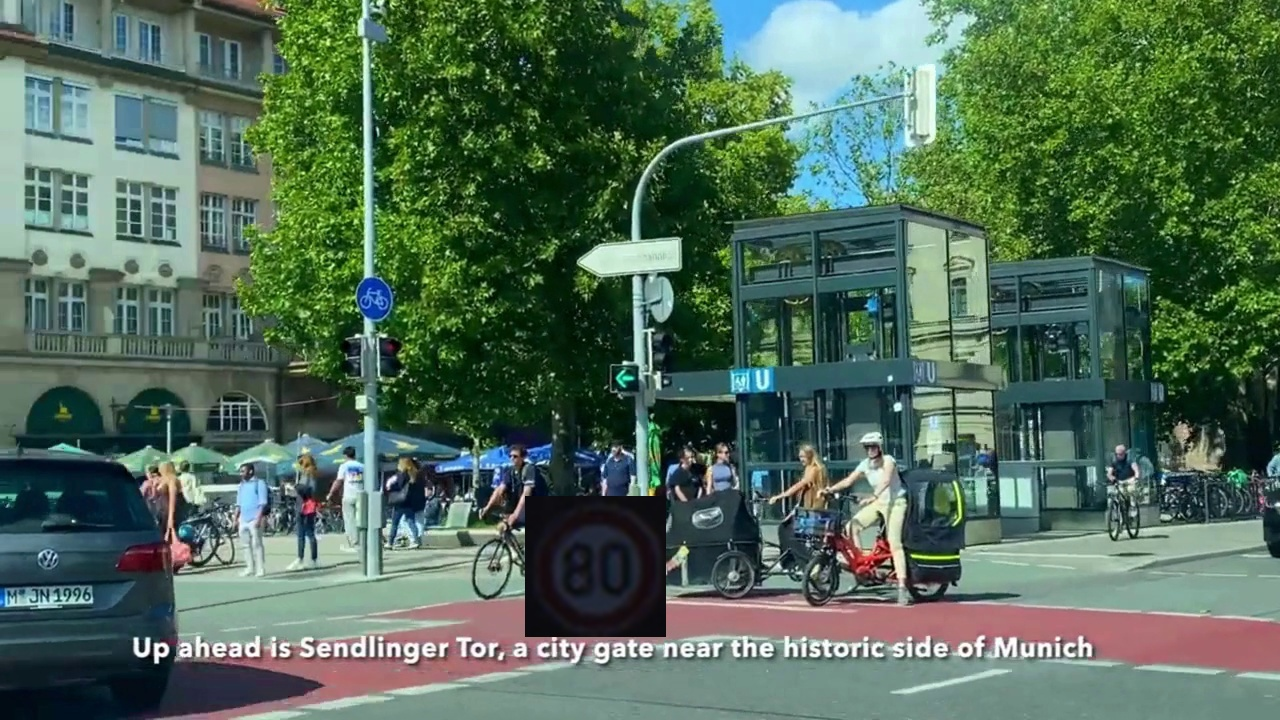Speed 80: (525, 496, 666, 637)
